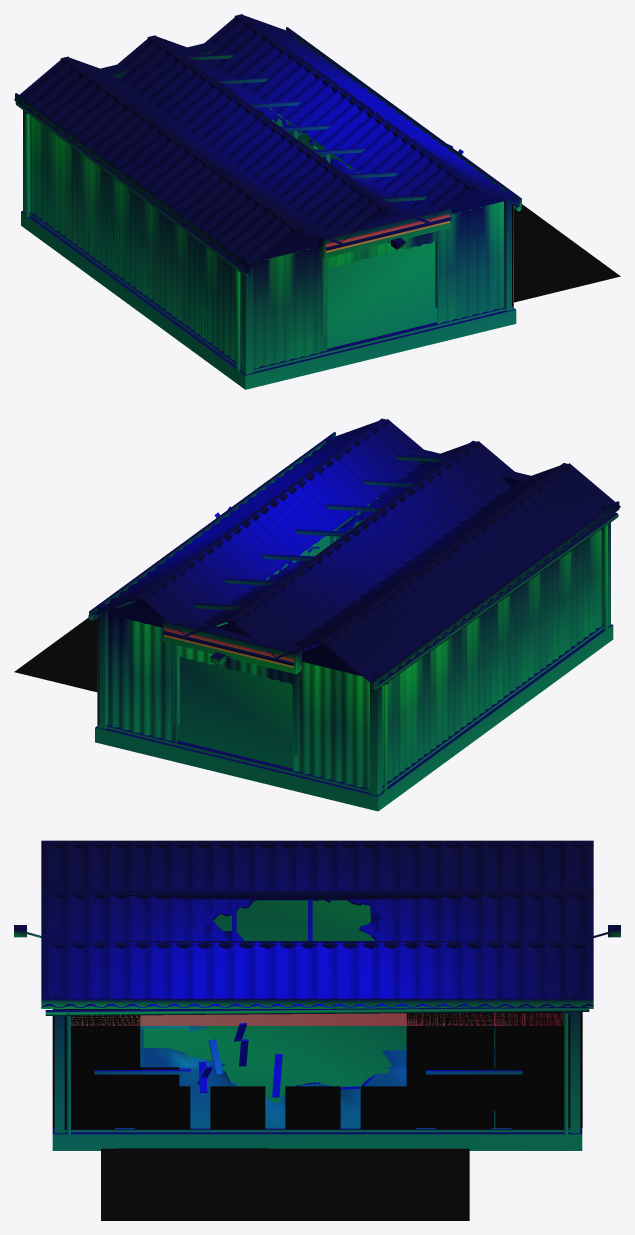
The model's file is civstoragea_damaged.glb.
3 views of the same model, one above another, from view 1: azimuth 30°, elevation 25°; view 2: azimuth 150°, elevation 25°; view 3: azimuth 270°, elevation 25° (orthographic). The views are drawn at different scales.
Parts seen in each view (by area): view 1: lod0; view 2: lod0; view 3: lod0.
Part boxes in pixels (x1,y1,x2,y2): lod0: (14,14,620,389); lod0: (14,418,620,811); lod0: (14,840,620,1220).
Size of what is drawn, in the model's own units: 11.78 by 4.36 by 13.17.
